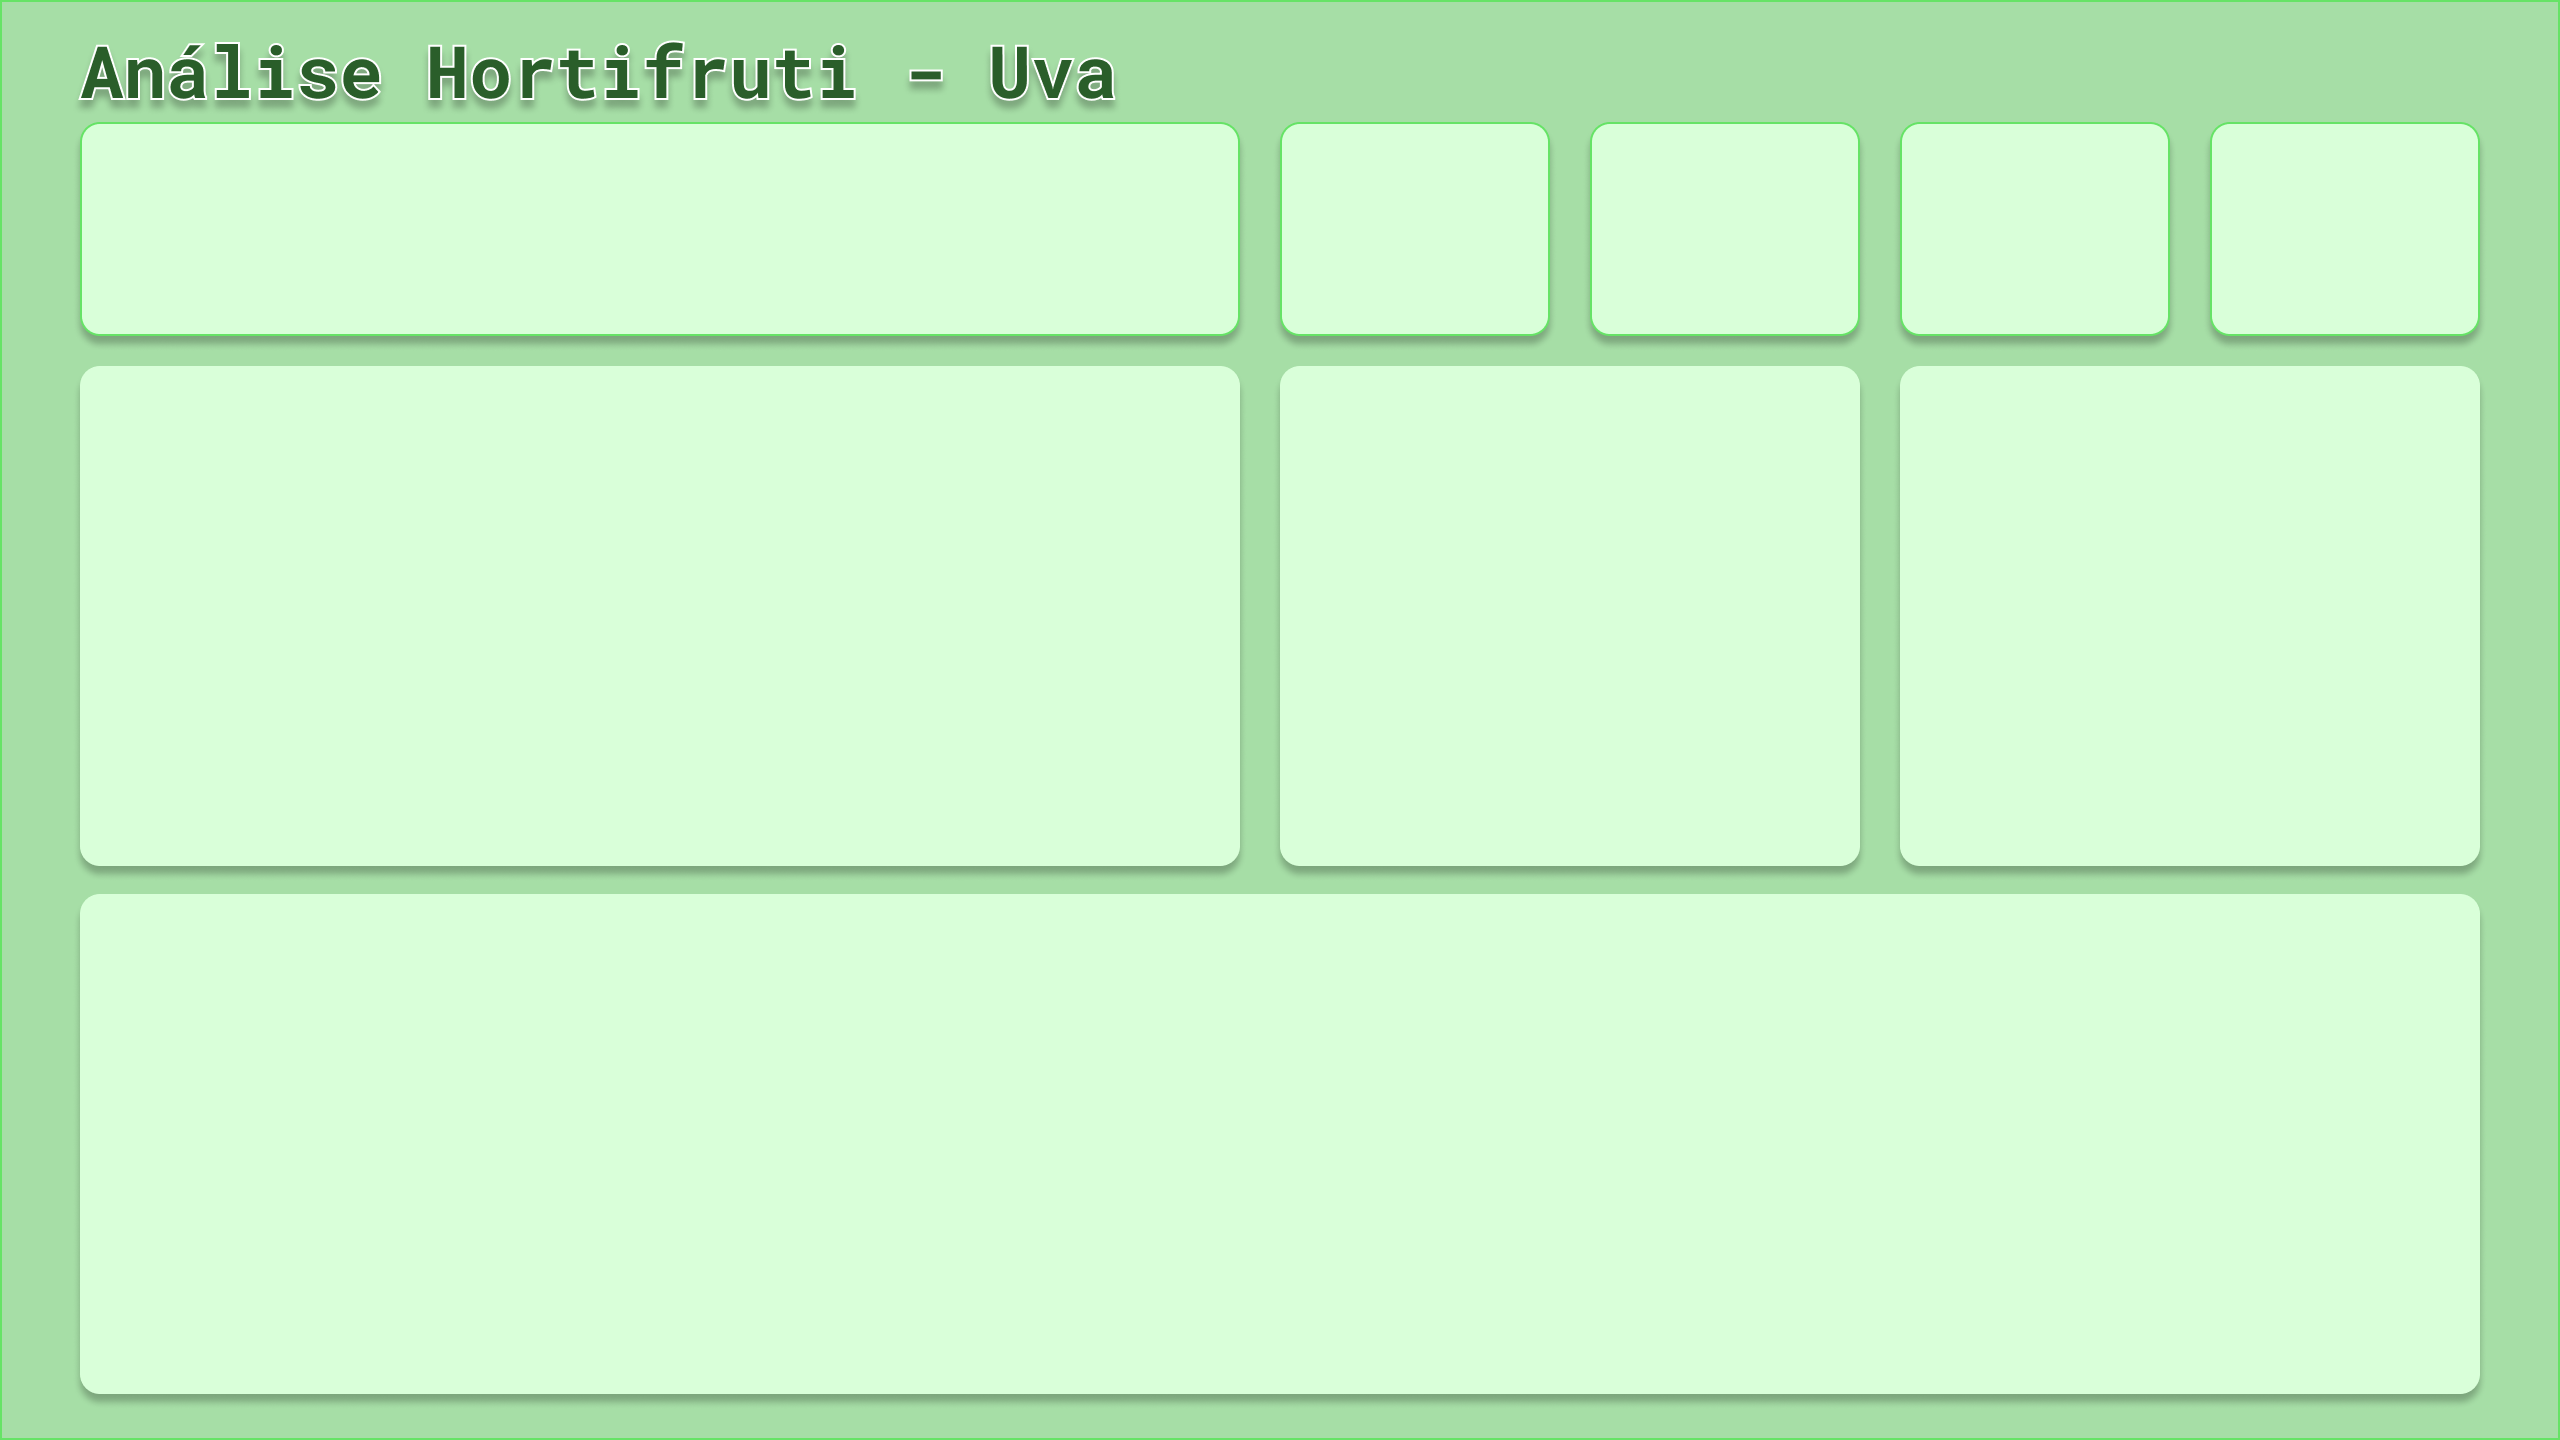

The page's visual inventory and layout, read from the dashboard file:
{"tool":"powerbi","page":{"name":"Página 1","canvas":[1280,720],"ordinal":0},"visuals":[{"type":"slicer","fields":{"Values":["Banana.Ano"]},"box":[46.6,186.5,567.6,241.3],"z":0},{"type":"slicer","fields":{"Values":["Sheet1.Unidade"]},"box":[340,67.2,274.2,93.2],"z":1000},{"type":"slicer","fields":{"Values":["Sheet1.Produto"]},"box":[46.6,67.2,283.8,93.2],"z":2000},{"type":"lineChart","fields":{"Category":["Sheet1.Data.Variation.Hierarquia de datas.Mês","Sheet1.Data.Variation.Hierarquia de datas.Dia"],"Y":["Avg(Banana.Preço)"],"Series":["Banana.Ano"]},"box":[47.1,457.1,1185.7,230],"z":3000},{"type":"clusteredColumnChart","fields":{"Category":["Banana.MesExtenso"],"Y":["Avg(Banana.Preço)"]},"box":[645.8,186.5,274.2,241.3],"z":4000},{"type":"card","fields":{"Values":["Avg(Sheet1.Preço)"]},"box":[638.6,60,135.7,108.6],"z":5000},{"type":"card","fields":{"Values":["Median(Sheet1.Preço)"]},"box":[794.3,60,135.7,108.6],"z":6000},{"type":"card","fields":{"Values":["Max(Sheet1.Preço)"]},"box":[951.4,60,135.7,108.6],"z":7000},{"type":"card","fields":{"Values":["Min(Sheet1.Preço)"]},"box":[1105.7,60,135.7,108.6],"z":8000},{"type":"textbox","box":[640,58.6,135.7,55.7],"z":9000},{"type":"textbox","box":[794.3,58.6,135.7,45.7],"z":10000},{"type":"textbox","box":[951.4,58.6,135.7,45.7],"z":11000},{"type":"textbox","box":[1105.7,58.6,135.7,45.7],"z":12000},{"type":"clusteredColumnChart","fields":{"Y":["Avg(Banana.Preço)","Max(Banana.Preço)1","Min(Banana.Preço)2"],"Category":["Banana.Ano"]},"box":[961.4,187.1,272.9,240],"z":14000}]}

Visuals, with their boxes in screenshot pixels (x1, y1, x2, y2), scaled from the page's 1280x720 canvas onto the 2560x1440 screenshot:
slicer - Banana.Ano: x1=93, y1=373, x2=1228, y2=856
slicer - Sheet1.Unidade: x1=680, y1=134, x2=1228, y2=321
slicer - Sheet1.Produto: x1=93, y1=134, x2=661, y2=321
lineChart - Sheet1.Data.Variation.Hierarquia de datas.Mês x Sheet1.Data.Variation.Hierarquia de datas.Dia: x1=94, y1=914, x2=2466, y2=1374
clusteredColumnChart - Banana.MesExtenso x Avg(Banana.Preço): x1=1292, y1=373, x2=1840, y2=856
card - Avg(Sheet1.Preço): x1=1277, y1=120, x2=1549, y2=337
card - Median(Sheet1.Preço): x1=1589, y1=120, x2=1860, y2=337
card - Max(Sheet1.Preço): x1=1903, y1=120, x2=2174, y2=337
card - Min(Sheet1.Preço): x1=2211, y1=120, x2=2483, y2=337
textbox: x1=1280, y1=117, x2=1551, y2=229
textbox: x1=1589, y1=117, x2=1860, y2=209
textbox: x1=1903, y1=117, x2=2174, y2=209
textbox: x1=2211, y1=117, x2=2483, y2=209
clusteredColumnChart - Avg(Banana.Preço) x Max(Banana.Preço)1: x1=1923, y1=374, x2=2469, y2=854
